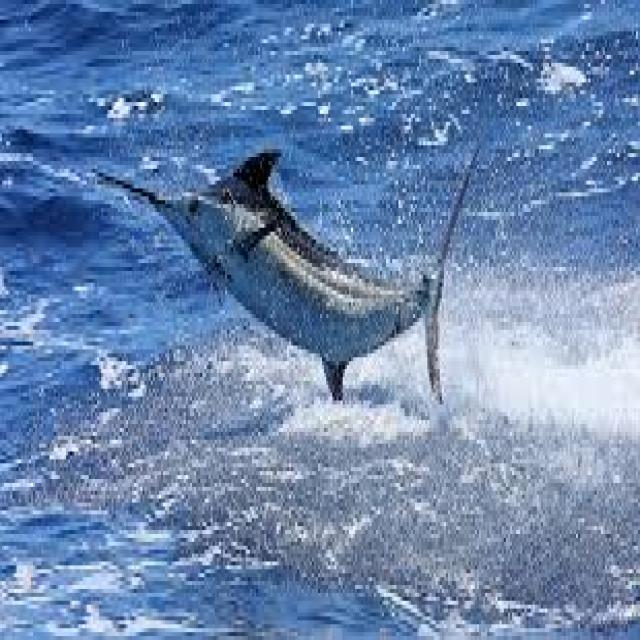Blue Marlin: (91, 138, 481, 404)
